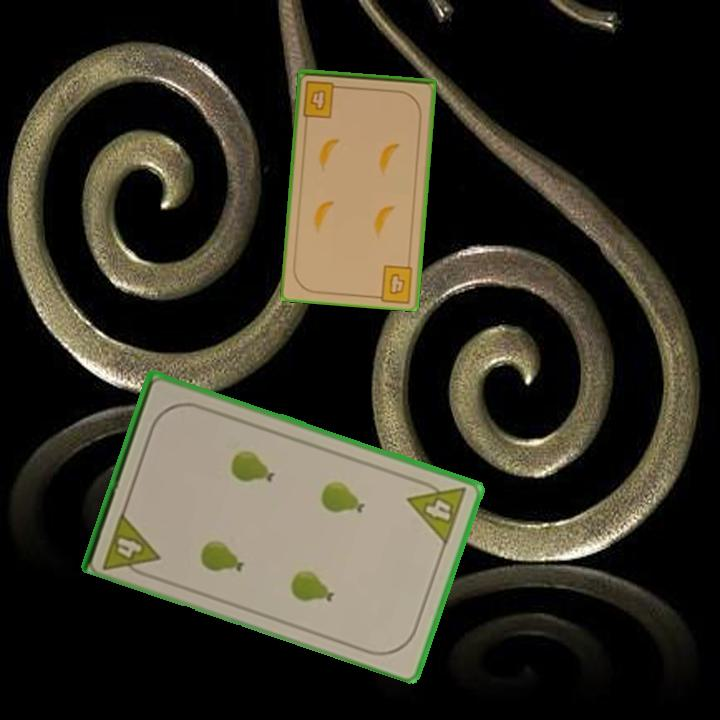4b: (299, 77, 346, 120), (385, 270, 409, 298)
4p: (404, 474, 469, 548), (99, 507, 163, 582)
